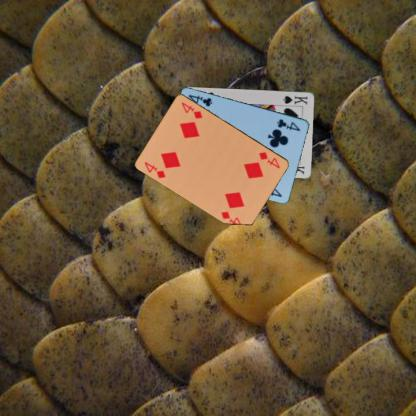4c: (274, 116, 302, 132)
4d: (257, 149, 282, 170), (142, 159, 167, 179)
Ks: (281, 93, 308, 105)
